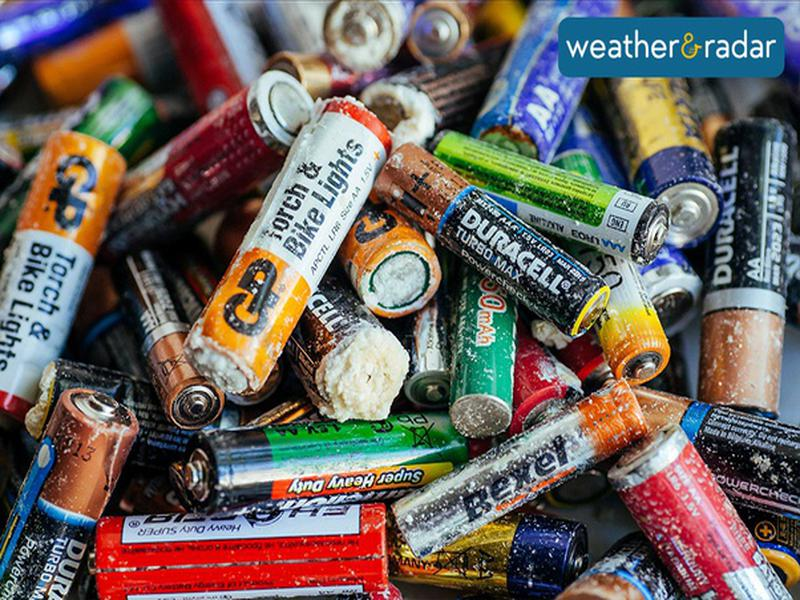battery: (174, 94, 397, 399), (382, 374, 650, 563), (368, 139, 616, 343), (595, 417, 800, 600), (427, 118, 671, 271), (172, 407, 474, 520), (693, 112, 796, 418)
